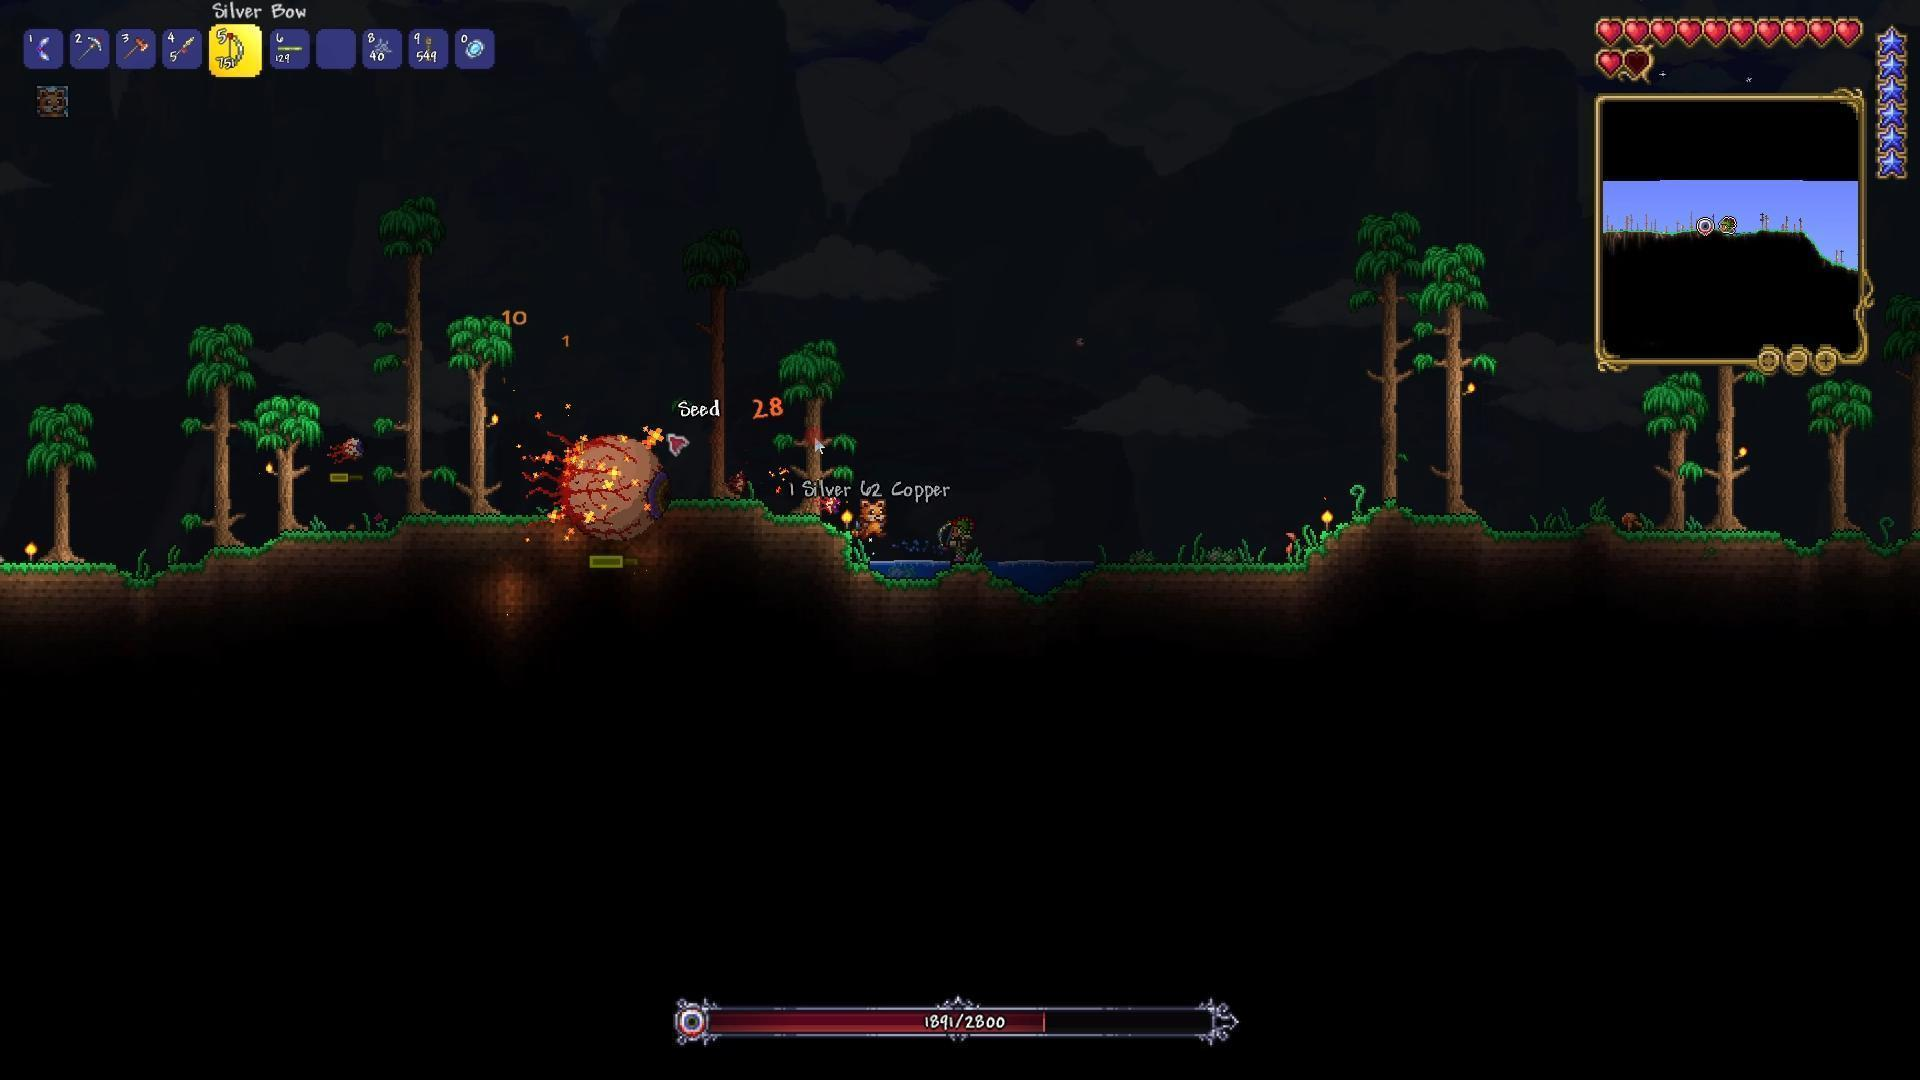cobwebI: (372, 36, 396, 58)
eye: (315, 418, 386, 485)
eyeC: (516, 417, 675, 579)
tree: (363, 171, 450, 538), (1345, 189, 1425, 526), (171, 303, 252, 563), (770, 331, 835, 554), (32, 372, 94, 575), (1643, 372, 1705, 549), (1811, 373, 1865, 554)
